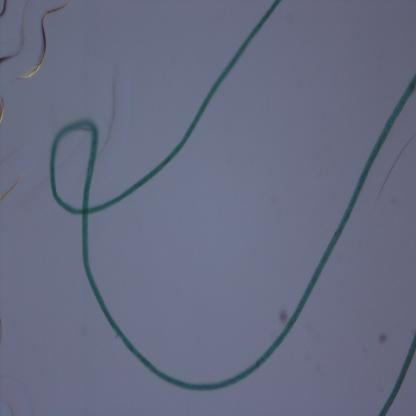Background material: (0, 0, 70, 114), (278, 308, 288, 326)
Microfibre: (49, 0, 416, 392), (378, 334, 416, 415)
